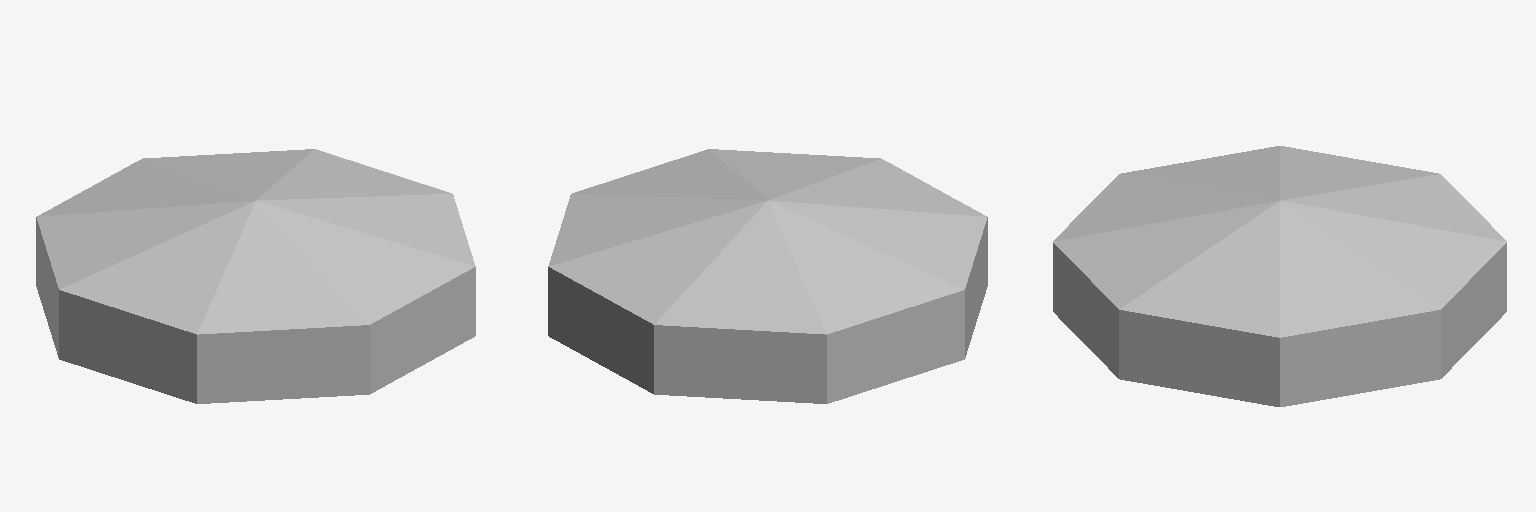
The model's file is old_sky_agb.obj.
3 views of the same model, side by side, from view 1: azimuth 30°, elevation 25°; view 2: azimuth 150°, elevation 25°; view 3: azimuth 270°, elevation 25° (orthographic).
Visible parts, largest first — view 1: polygon1.001; view 2: polygon1.001; view 3: polygon1.001.
Boxes of the visible parts, box(x1,y1,x2,y2) form: polygon1.001: box(36, 149, 475, 403); polygon1.001: box(548, 149, 987, 403); polygon1.001: box(1053, 146, 1506, 406).
Size of the model in its own units: 625 by 168 by 625.